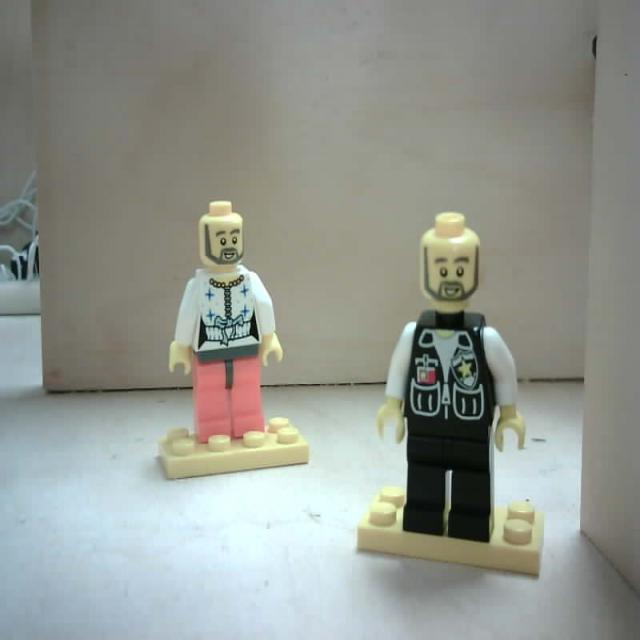Lego-People: (357, 210, 546, 580), (159, 204, 308, 482)
